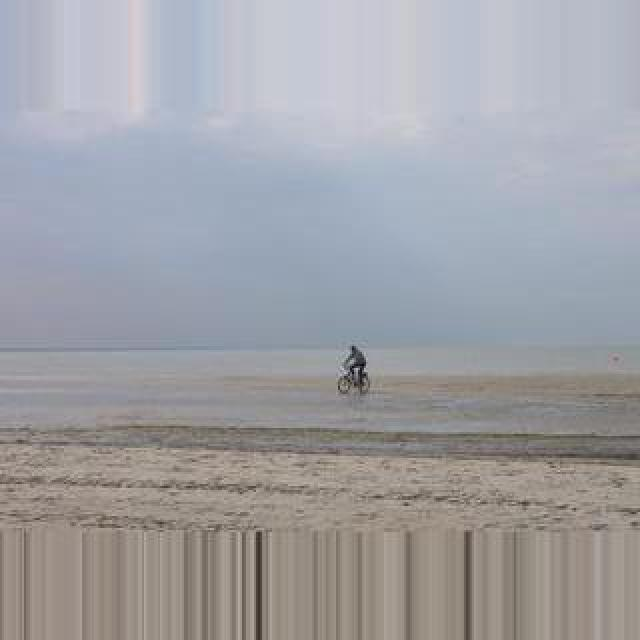MC-Bike: (342, 344, 368, 386)
Person: (338, 365, 370, 393)
